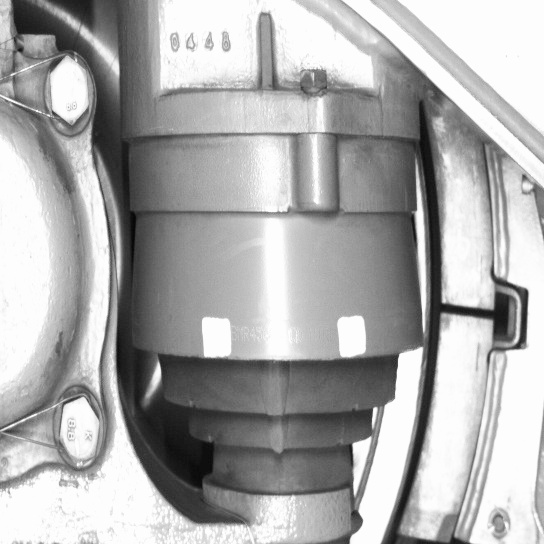KnifeSwitch: (378, 135, 500, 542)
Screw: (49, 385, 107, 475), (41, 47, 97, 132)
